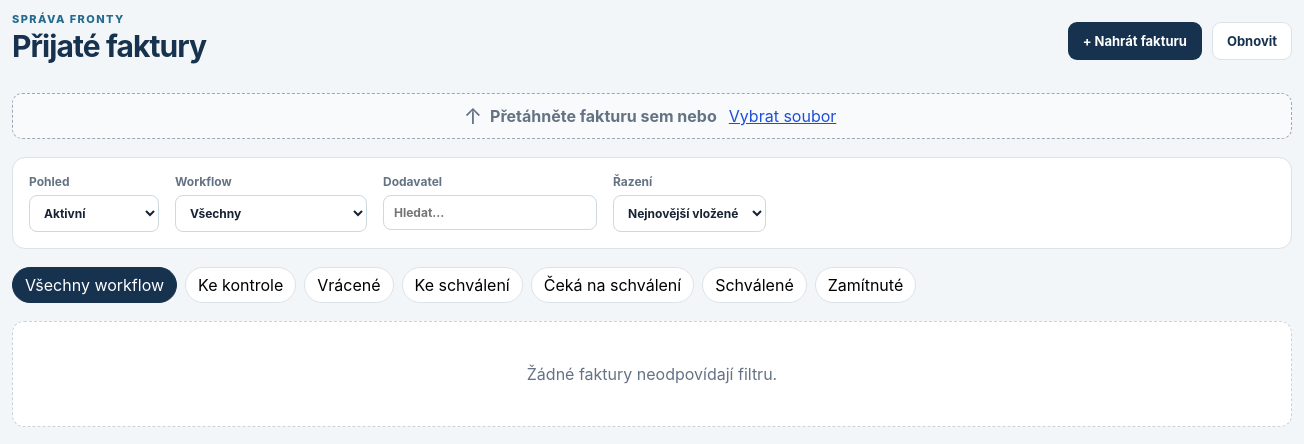
Test case: invoice queue actions › disables refresh while the request is pending and prevents a double request
Click the button "Obnovit" at (1252,40), box [1212,22,1292,60]
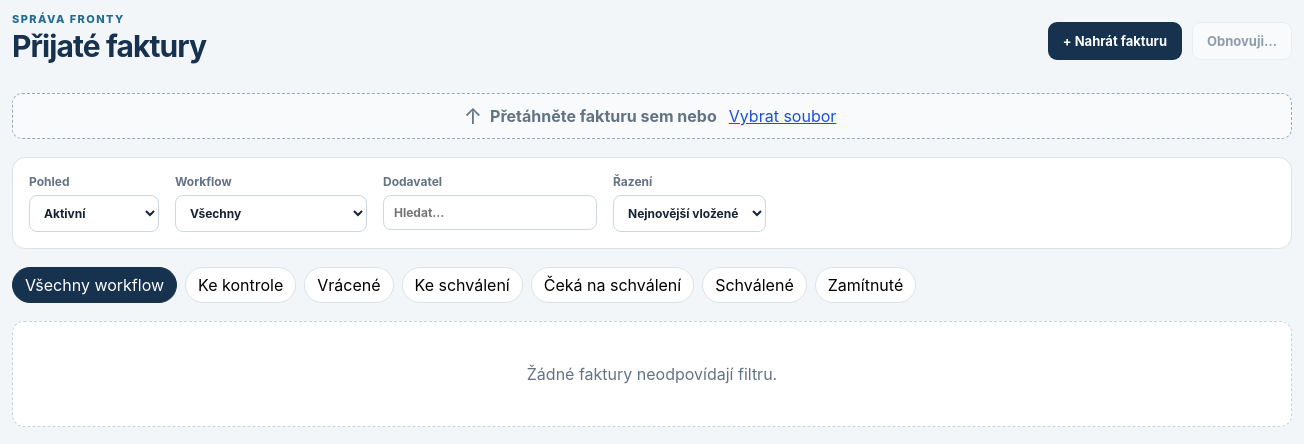
Now the button "Obnovuji…" is disabled
Click the button "Obnovuji…" at (1242,40), box [1192,22,1292,60]
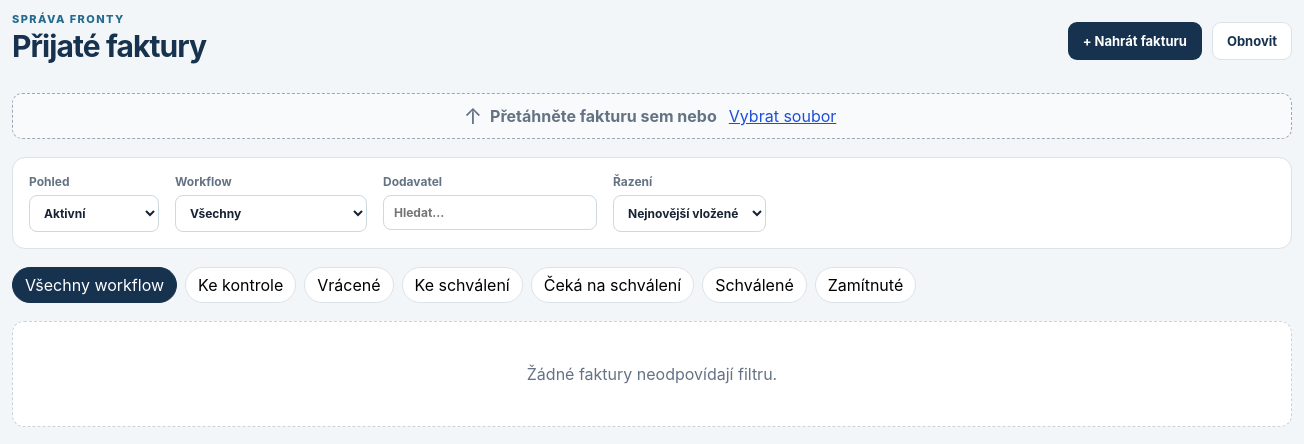
Now the button "Obnovit" is enabled, box [1212,22,1292,60]
